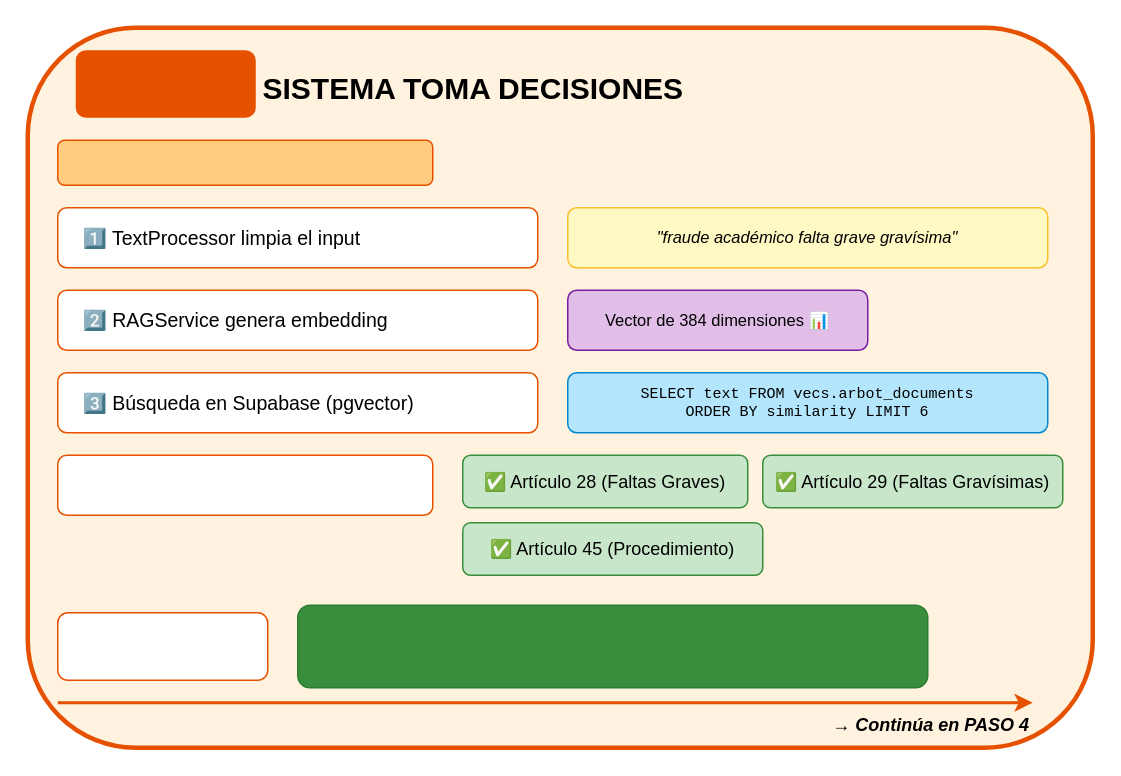
Image size: 1121x776. Some labels were removed from this diagram. The centre of each missing label's shape, as x and y in pixels:
4️⃣ Resultados encontrados:: point (244, 484)
5️⃣ DECISIÓN:: point (162, 645)
PASO 3: point (165, 83)
⚙️ [Backend - Invisible para María]: point (244, 162)
✅ HAY CONTEXTO RELEVANTE → Enviar a LLM: point (612, 646)
